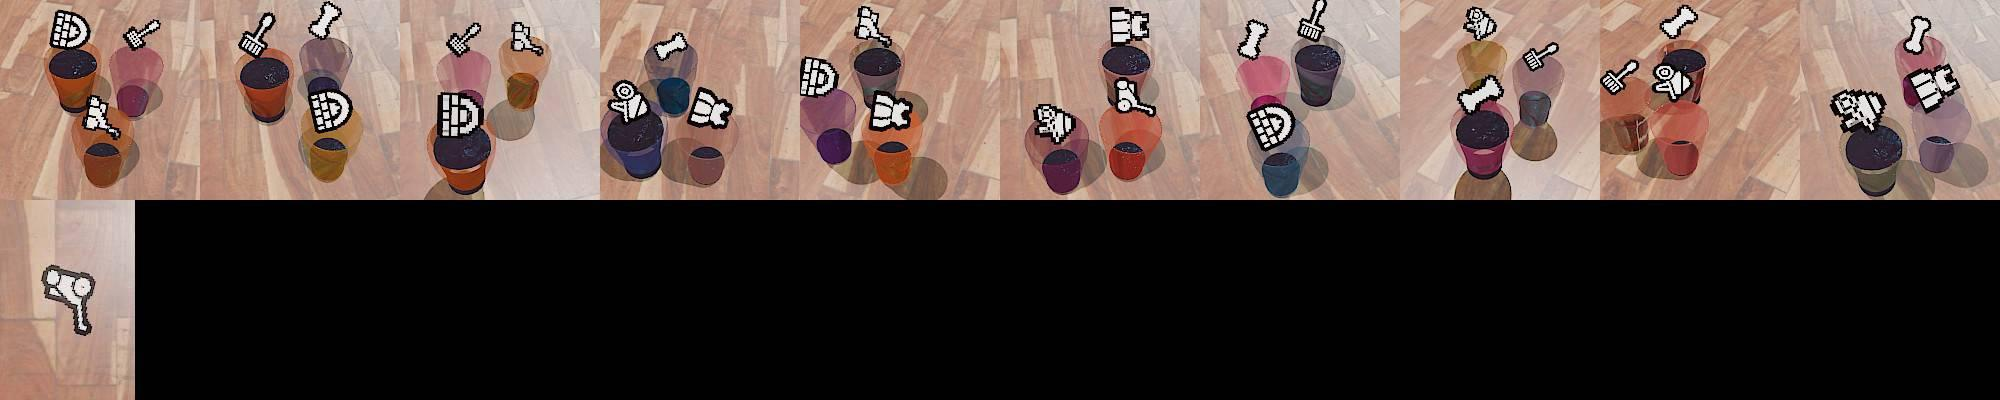icon: (41, 264, 97, 335), (1903, 62, 1959, 113), (1829, 88, 1888, 134), (1246, 102, 1296, 152), (437, 89, 483, 138), (686, 85, 735, 129), (1457, 73, 1506, 115), (307, 88, 353, 132), (1033, 101, 1077, 145), (610, 79, 653, 122), (1114, 76, 1158, 118), (1652, 61, 1696, 103), (237, 11, 277, 59), (869, 89, 913, 130), (82, 94, 122, 136), (1108, 5, 1151, 46), (798, 56, 839, 97), (50, 9, 91, 50), (1658, 4, 1700, 41), (1601, 59, 1642, 96), (307, 1, 343, 41), (446, 20, 482, 59), (1297, 0, 1328, 43), (1237, 19, 1269, 60), (1522, 41, 1561, 73), (122, 19, 162, 51), (510, 20, 545, 56), (652, 31, 690, 62), (1464, 6, 1499, 41), (1903, 15, 1931, 55), (855, 5, 880, 41)
